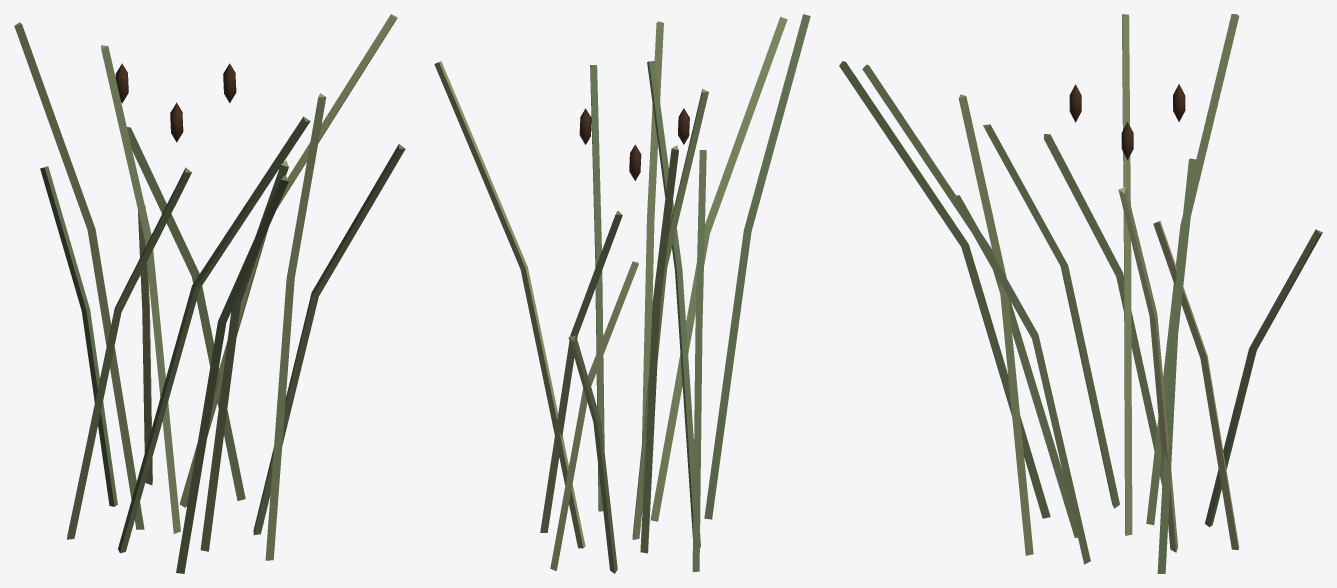
File: reeds.glb
3 views of the same model, side by side, from view 1: azimuth 30°, elevation 25°; view 2: azimuth 150°, elevation 25°; view 3: azimuth 270°, elevation 25° (orthographic). The views are drawn at different scales.
Visible parts, largest first — view 1: reeds; view 2: reeds; view 3: reeds.
Part boxes in pixels (x1=…): reeds: x1=14, y1=14, x2=405, y2=573; reeds: x1=434, y1=14, x2=810, y2=573; reeds: x1=839, y1=14, x2=1322, y2=573.
Bounding box in the file's own units: 1.21 × 1.8 × 1.62.
